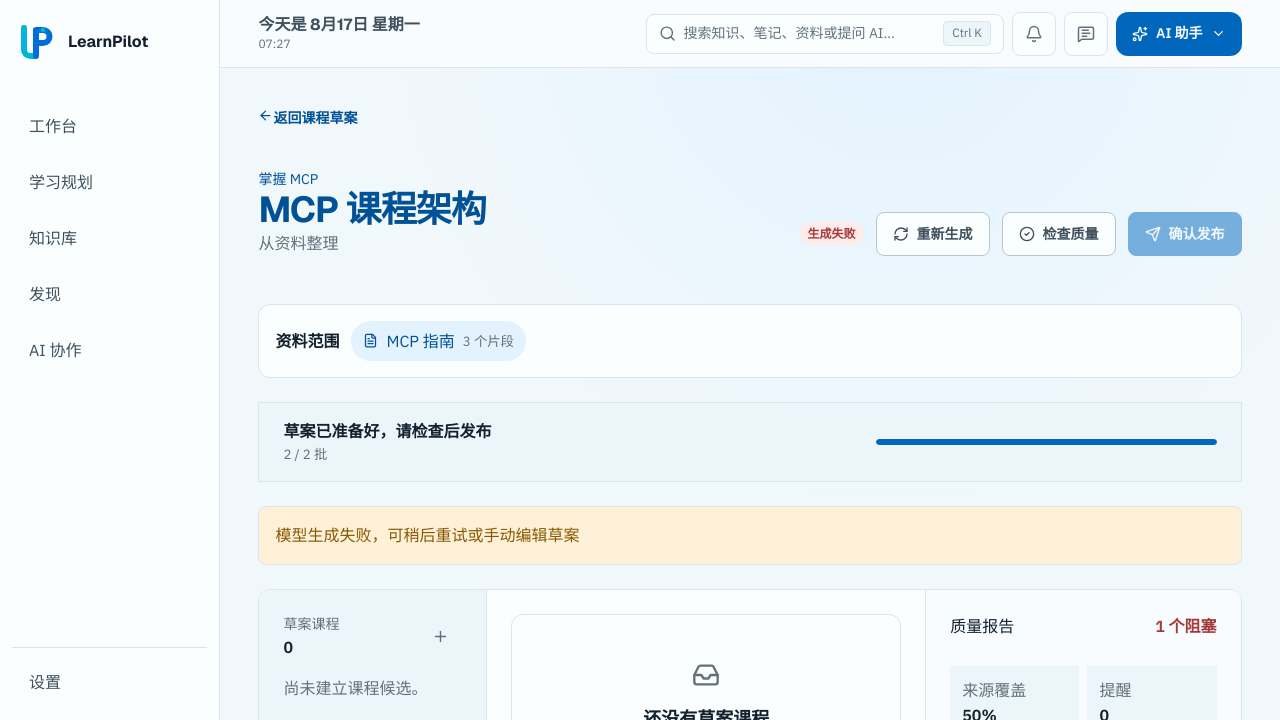
Test case: V9 课程架构草案 › 生成失败时说明原因并允许从同一草案重试
The width and height of the screenshot is (1280, 720).
expect the text "模型生成失败，可稍后重试或手动编辑草案" is shown: met, box [258,506,1242,565]
Click the button "重新生成" at (933, 234), box [876,212,990,256]
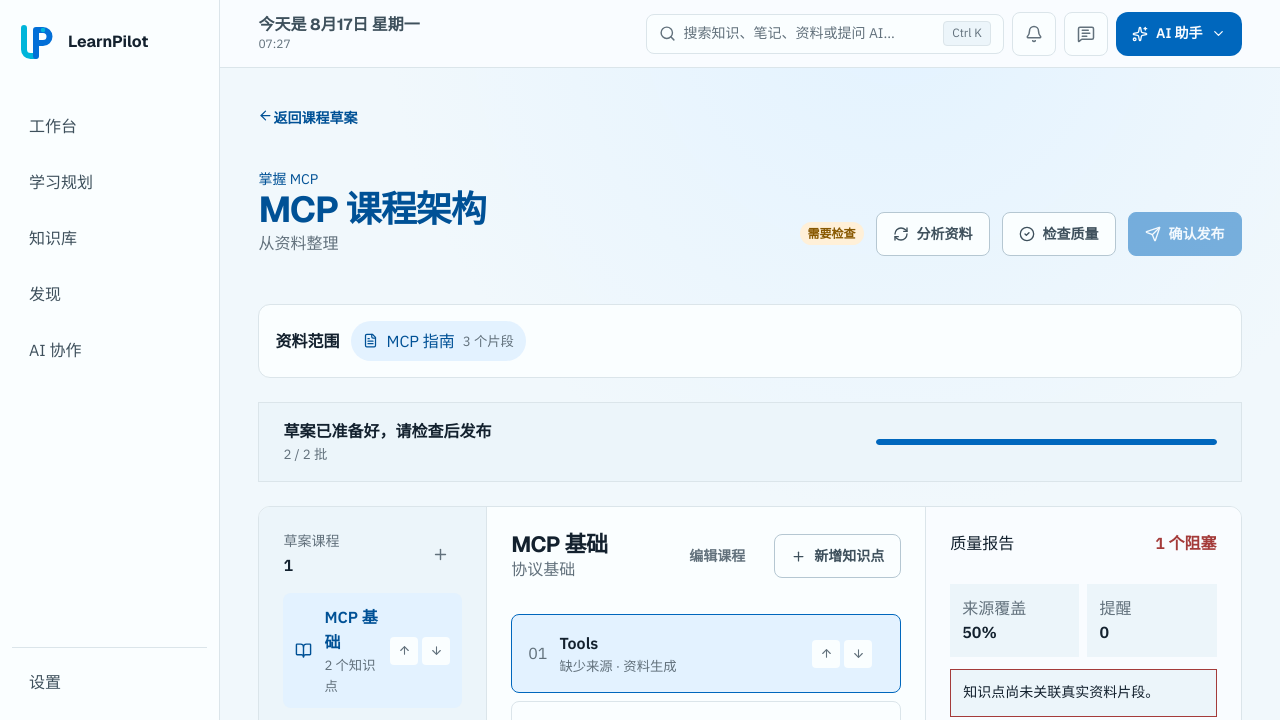
expect the text "MCP 基础" is shown: met, box [324,607,378,652]
